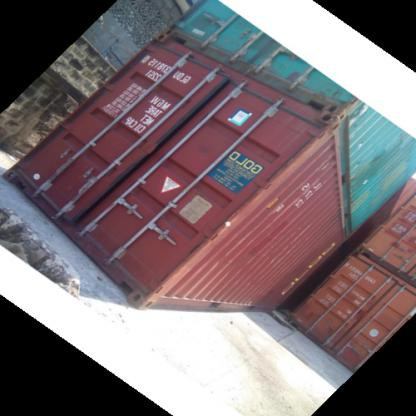Damage: (245, 110, 338, 226)
